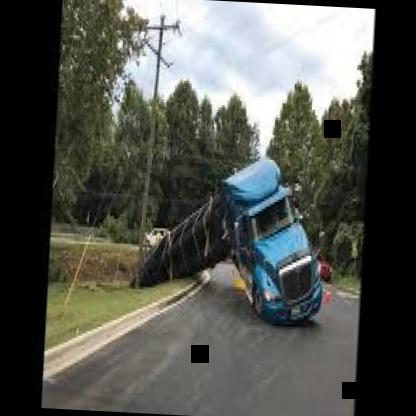accident: (134, 148, 336, 347)
